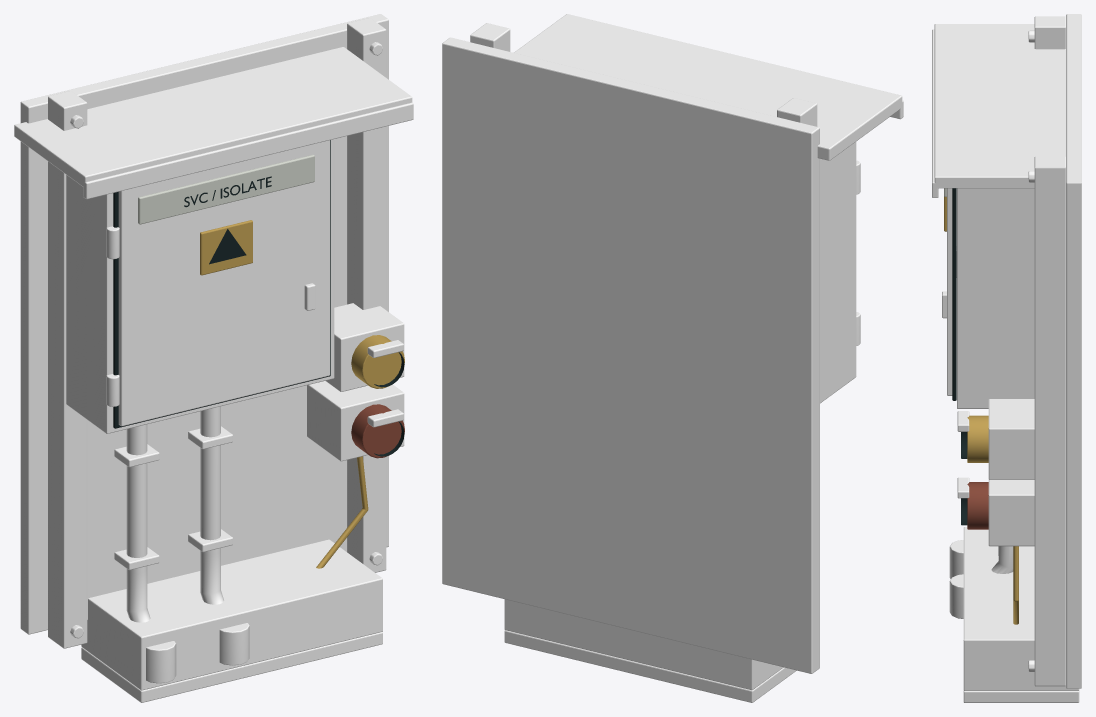
Rendered from B08_WALL_TERMINAL.glb.
3 renders of one model, left to right at view 1: azimuth 30°, elevation 25°; view 2: azimuth 150°, elevation 25°; view 3: azimuth 270°, elevation 25°, orthographic. The views are drawn at different scales.
Parts seen in each view (by area): view 1: B08_WALL_TERMINAL; view 2: B08_WALL_TERMINAL; view 3: B08_WALL_TERMINAL.
Part boxes in pixels (x1,y1,x2,y2): B08_WALL_TERMINAL: [14, 14, 413, 702]; B08_WALL_TERMINAL: [442, 14, 903, 702]; B08_WALL_TERMINAL: [932, 14, 1081, 702].
Bounding box in the file's own units: 1.57 × 2.33 × 0.5695.
